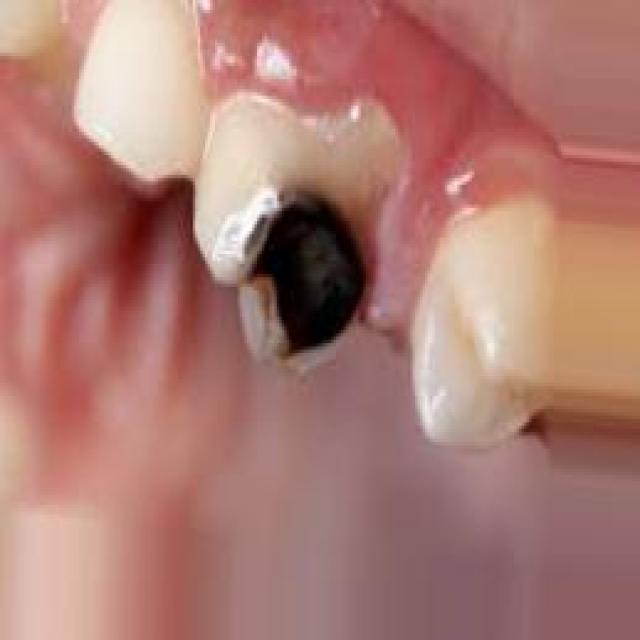caries: (207, 158, 383, 376)
